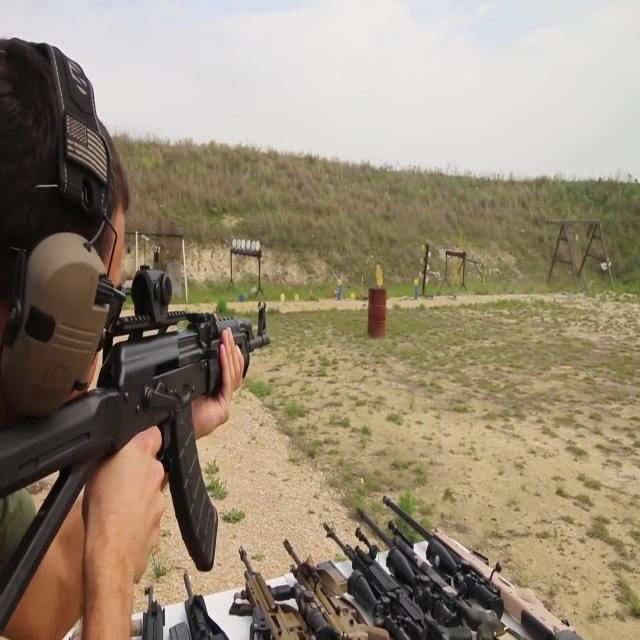Weapon: (0, 249, 404, 639), (88, 452, 628, 640)
